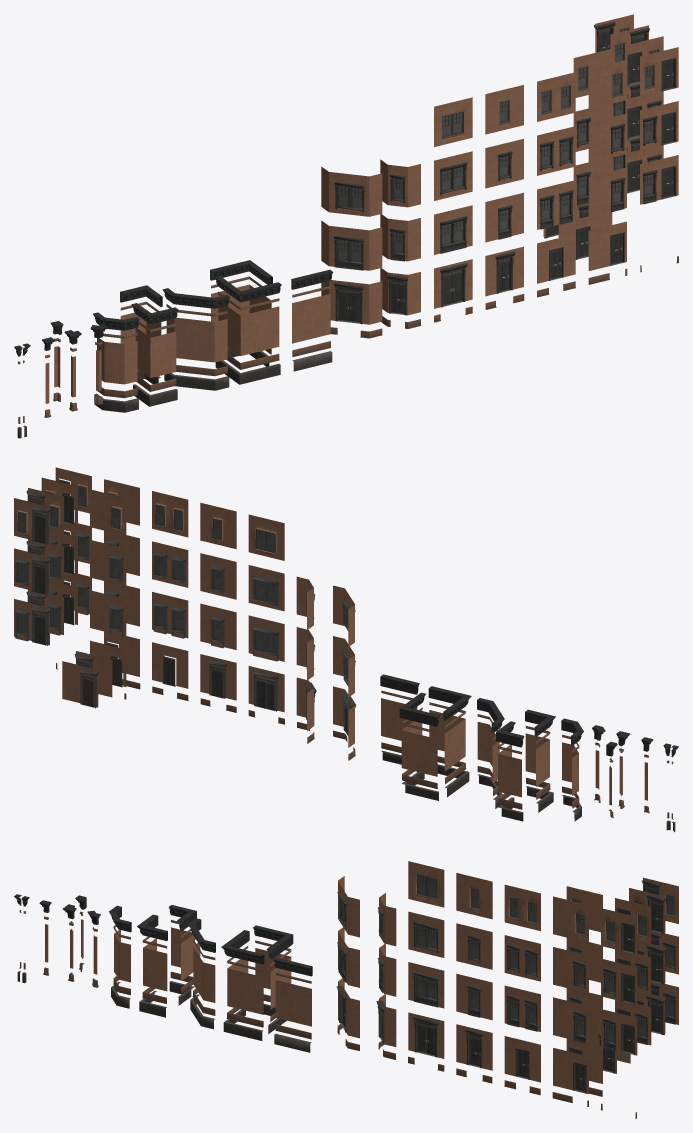
The model's file is facade_kit.glb.
3 renders of one model, top to bottom at view 1: azimuth 30°, elevation 25°; view 2: azimuth 150°, elevation 25°; view 3: azimuth 330°, elevation 25°, orthographic. The views are drawn at different scales.
Visible parts, largest first — view 1: wall_standard_corner_large_01, wall_standard_angled_large_01, wall_window_angled_large_02, wall_window_angled_large_01, wall_standard_corner_small_01, wall_standard_standard_01, wall_standard_angled_small_01, wall_window_offset_small_05, wall_window_centered_small_03, wall_window_centered_small_02, wall_door_angled_large_01, wall_window_angled_small_02 (+38 smaller); view 2: wall_standard_corner_large_02, wall_standard_corner_large_01, wall_window_offset_small_06, wall_window_centered_small_03, wall_window_centered_small_02, wall_window_offset_small_04, wall_window_centered_small_01, wall_window_offset_small_02, wall_window_centered_double_03, wall_door_centered_small_02, door_window_small_04, wall_window_centered_large_03 (+38 smaller); view 3: wall_standard_corner_large_01, wall_standard_standard_01, wall_window_centered_small_03, wall_window_offset_small_05, wall_window_centered_small_02, wall_window_offset_small_03, wall_window_centered_small_01, wall_window_centered_double_03, wall_door_centered_small_02, wall_standard_corner_small_01, wall_window_offset_small_01, wall_window_centered_large_03 (+58 smaller).
Part boxes in pixels (left/top/right/bottom): wall_standard_corner_large_01: left=218, top=306, right=279, bottom=355; wall_standard_angled_large_01: left=166, top=317, right=227, bottom=362; wall_window_angled_large_02: left=321, top=166, right=382, bottom=216; wall_window_angled_large_01: left=321, top=220, right=382, bottom=270; wall_standard_corner_small_01: left=135, top=328, right=176, bottom=377; wall_standard_standard_01: left=292, top=294, right=330, bottom=343; wall_standard_angled_small_01: left=97, top=338, right=137, bottom=384; wall_window_offset_small_05: left=588, top=59, right=626, bottom=109; wall_window_centered_small_03: left=485, top=85, right=523, bottom=134; wall_window_centered_small_02: left=485, top=139, right=523, bottom=188; wall_door_angled_large_01: left=321, top=280, right=382, bottom=324; wall_window_angled_small_02: left=380, top=159, right=420, bottom=207; wall_standard_corner_large_02: left=401, top=721, right=437, bottom=776; wall_standard_corner_large_01: left=429, top=710, right=465, bottom=771; wall_window_offset_small_06: left=90, top=489, right=126, bottom=535; wall_window_centered_small_03: left=200, top=502, right=236, bottom=549; wall_window_centered_small_02: left=200, top=553, right=236, bottom=599; wall_window_offset_small_04: left=90, top=540, right=126, bottom=586; wall_window_centered_small_01: left=200, top=603, right=236, bottom=649; wall_window_offset_small_02: left=90, top=590, right=126, bottom=636; wall_window_centered_double_03: left=152, top=491, right=188, bottom=537; wall_door_centered_small_02: left=152, top=642, right=188, bottom=688; door_window_small_04: left=14, top=605, right=51, bottom=645; wall_window_centered_large_03: left=248, top=514, right=284, bottom=560; wall_standard_corner_large_01: left=227, top=959, right=263, bottom=1014; wall_standard_standard_01: left=275, top=980, right=311, bottom=1026; wall_window_centered_small_03: left=456, top=873, right=492, bottom=919; wall_window_offset_small_05: left=553, top=896, right=588, bottom=942; wall_window_centered_small_02: left=456, top=923, right=492, bottom=969; wall_window_offset_small_03: left=553, top=947, right=588, bottom=993; wall_window_centered_small_01: left=456, top=973, right=492, bottom=1020; wall_window_centered_double_03: left=504, top=884, right=540, bottom=930; wall_door_centered_small_02: left=504, top=1036, right=540, bottom=1082; wall_standard_corner_small_01: left=143, top=938, right=167, bottom=991; wall_window_offset_small_01: left=553, top=997, right=588, bottom=1043; wall_window_centered_large_03: left=408, top=861, right=444, bottom=907.
Bounding box in the file's own units: 51.53 × 17 × 6.67.
5 materials, 5 textured.
